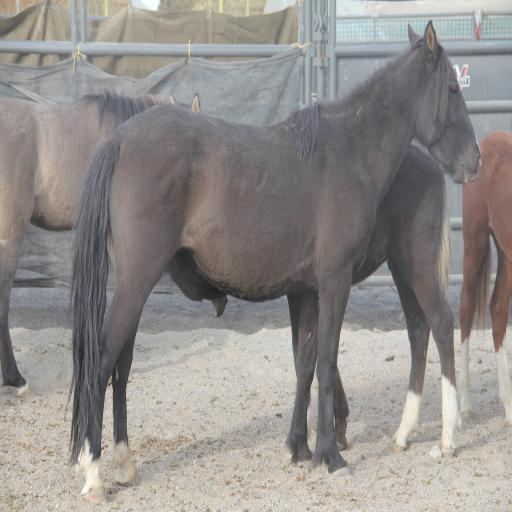horse: (69, 17, 483, 505), (164, 143, 460, 454), (0, 92, 201, 402), (459, 131, 511, 430)
